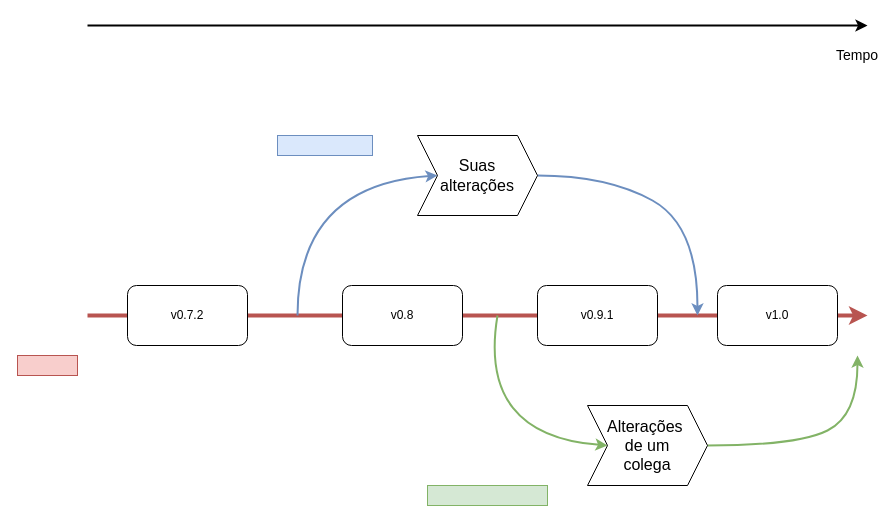
Image size: 896x523. Some labels were removed from this diagram. Here are the shapes that lost their labels. From the top down, the box of each, then its label:
(276, 134, 372, 156): Sua branch
(16, 354, 78, 376): master
(426, 484, 548, 506): Branch do colega
